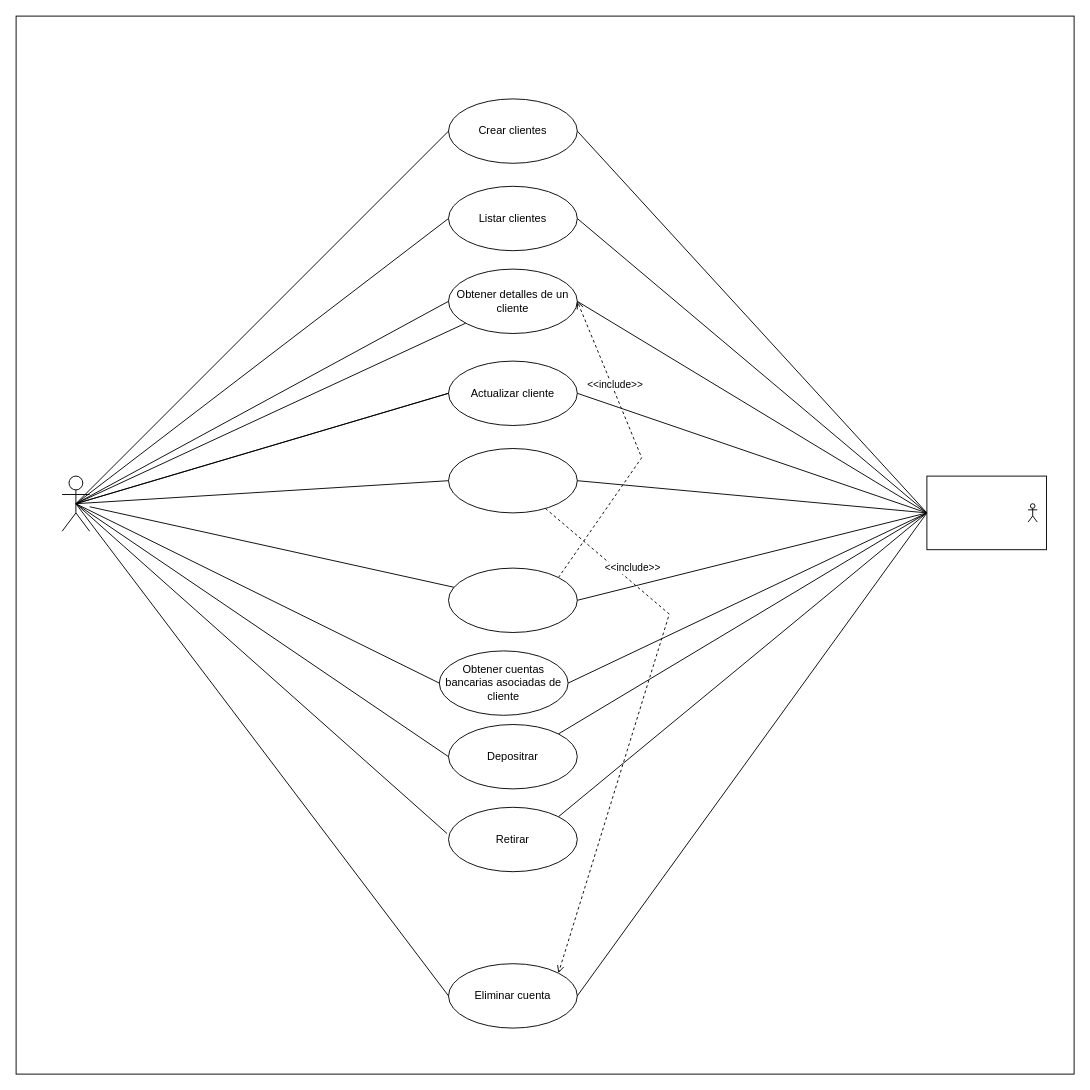
The diagram is 1090 pixels wide and 1090 high, and some of its shapes have lost their labels. The box of each missing label's shape, as (x1, y1, x2, y2) in pixels:
Banco: (926, 475, 1046, 550)
Cajero: (61, 475, 90, 531)
Crear cuenta: (448, 567, 577, 632)
Eliminar cliente: (448, 448, 577, 513)
